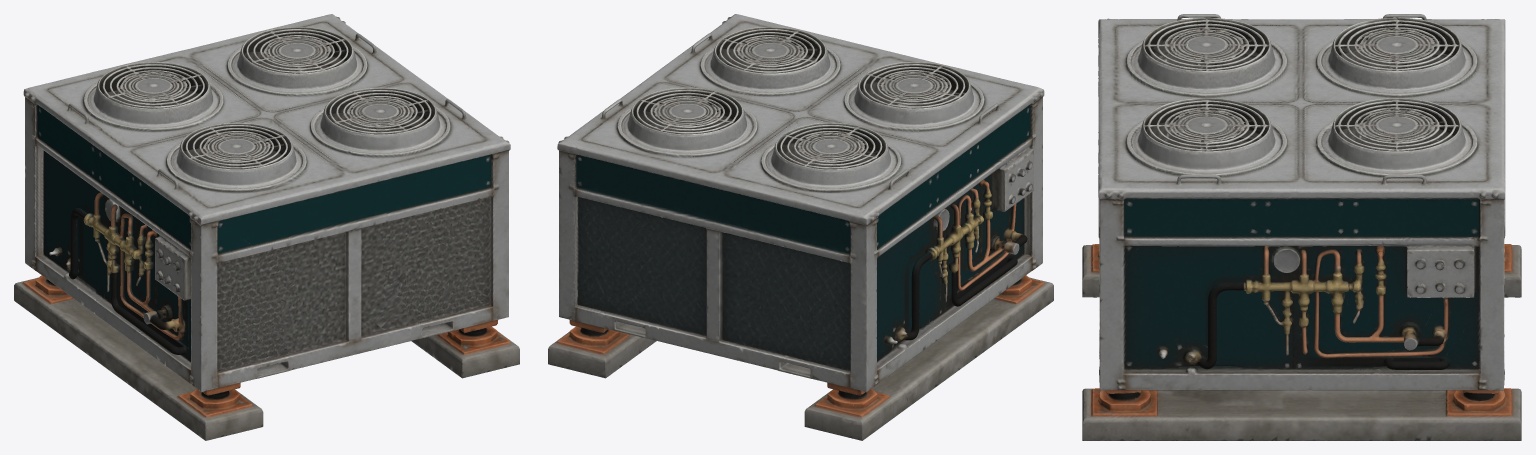
File: rooftop_hvac_chiller_unit.glb
The picture shows the model from 3 angles, left to right: view 1: azimuth 30°, elevation 25°; view 2: azimuth 150°, elevation 25°; view 3: azimuth 270°, elevation 25°; orthographic projection. The views are drawn at different scales.
Size of the model in its own units: 1.9 by 1.27 by 1.87.
1 material, 1 textured.
